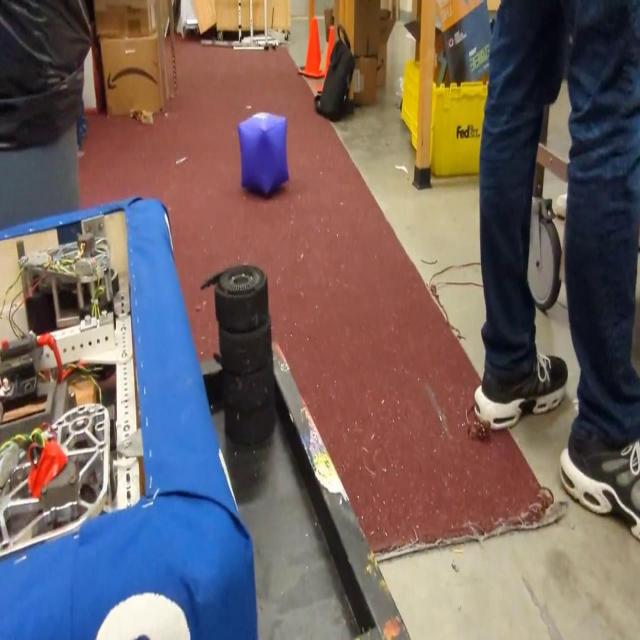frc_cube: (237, 110, 289, 200)
